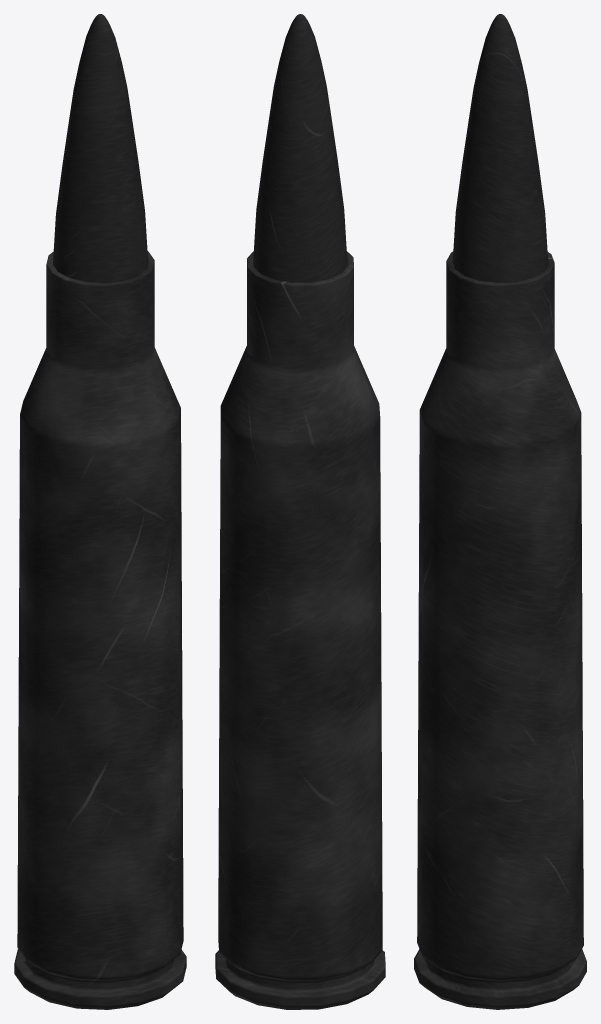
File: bullet_high.fbx
3 views of the same model, side by side, from view 1: azimuth 30°, elevation 25°; view 2: azimuth 150°, elevation 25°; view 3: azimuth 270°, elevation 25° (orthographic).
Parts seen in each view (by area): view 1: Bullet high; view 2: Bullet high; view 3: Bullet high.
Boxes of the visible parts, <box> form: Bullet high: <box>14,14,186,1009</box>; Bullet high: <box>215,14,385,1009</box>; Bullet high: <box>414,14,586,1009</box>.
Bounding box in the file's own units: 1.52 × 9.36 × 1.52.
